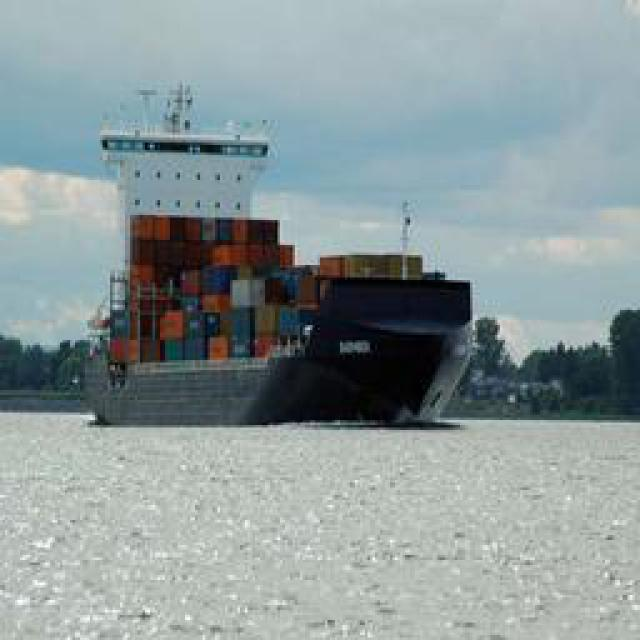Ship: (56, 78, 475, 427)
